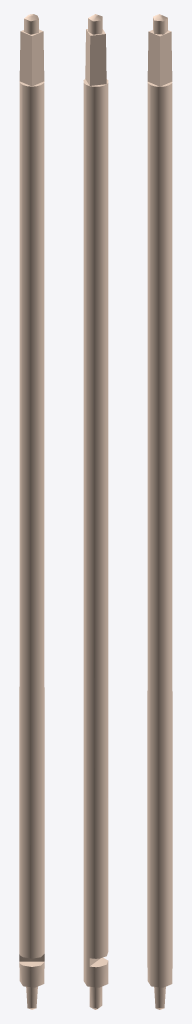
Rendered from Marteau - axe_Quart - Q.dessus.obj.
3 views of the same model, side by side, from view 1: azimuth 90°, elevation 25°; view 2: azimuth 150°, elevation 25°; view 3: azimuth 270°, elevation 25° (orthographic).
Visible parts, largest first — view 1: Face_1, Face_7, Face_8, Face_3, Face_13, Face_16; view 2: Face_1, Face_8, Face_3, Face_9, Face_13; view 3: Face_1, Face_9, Face_10, Face_3, Face_13.
Part boxes in pixels (x1,y1,x2,y2): Face_1: [19, 82, 44, 987]; Face_7: [32, 31, 44, 86]; Face_8: [19, 31, 31, 86]; Face_3: [26, 986, 37, 1008]; Face_13: [24, 18, 38, 34]; Face_16: [19, 954, 44, 961]; Face_1: [83, 83, 108, 987]; Face_8: [90, 34, 106, 85]; Face_3: [89, 986, 102, 1008]; Face_9: [85, 29, 90, 85]; Face_13: [88, 18, 102, 34]; Face_1: [147, 83, 172, 987]; Face_9: [160, 31, 172, 86]; Face_10: [147, 31, 159, 86]; Face_3: [154, 986, 165, 1008]; Face_13: [153, 18, 167, 34].
Size of the model in its own units: 0.0055 by 0.239 by 0.0055.
